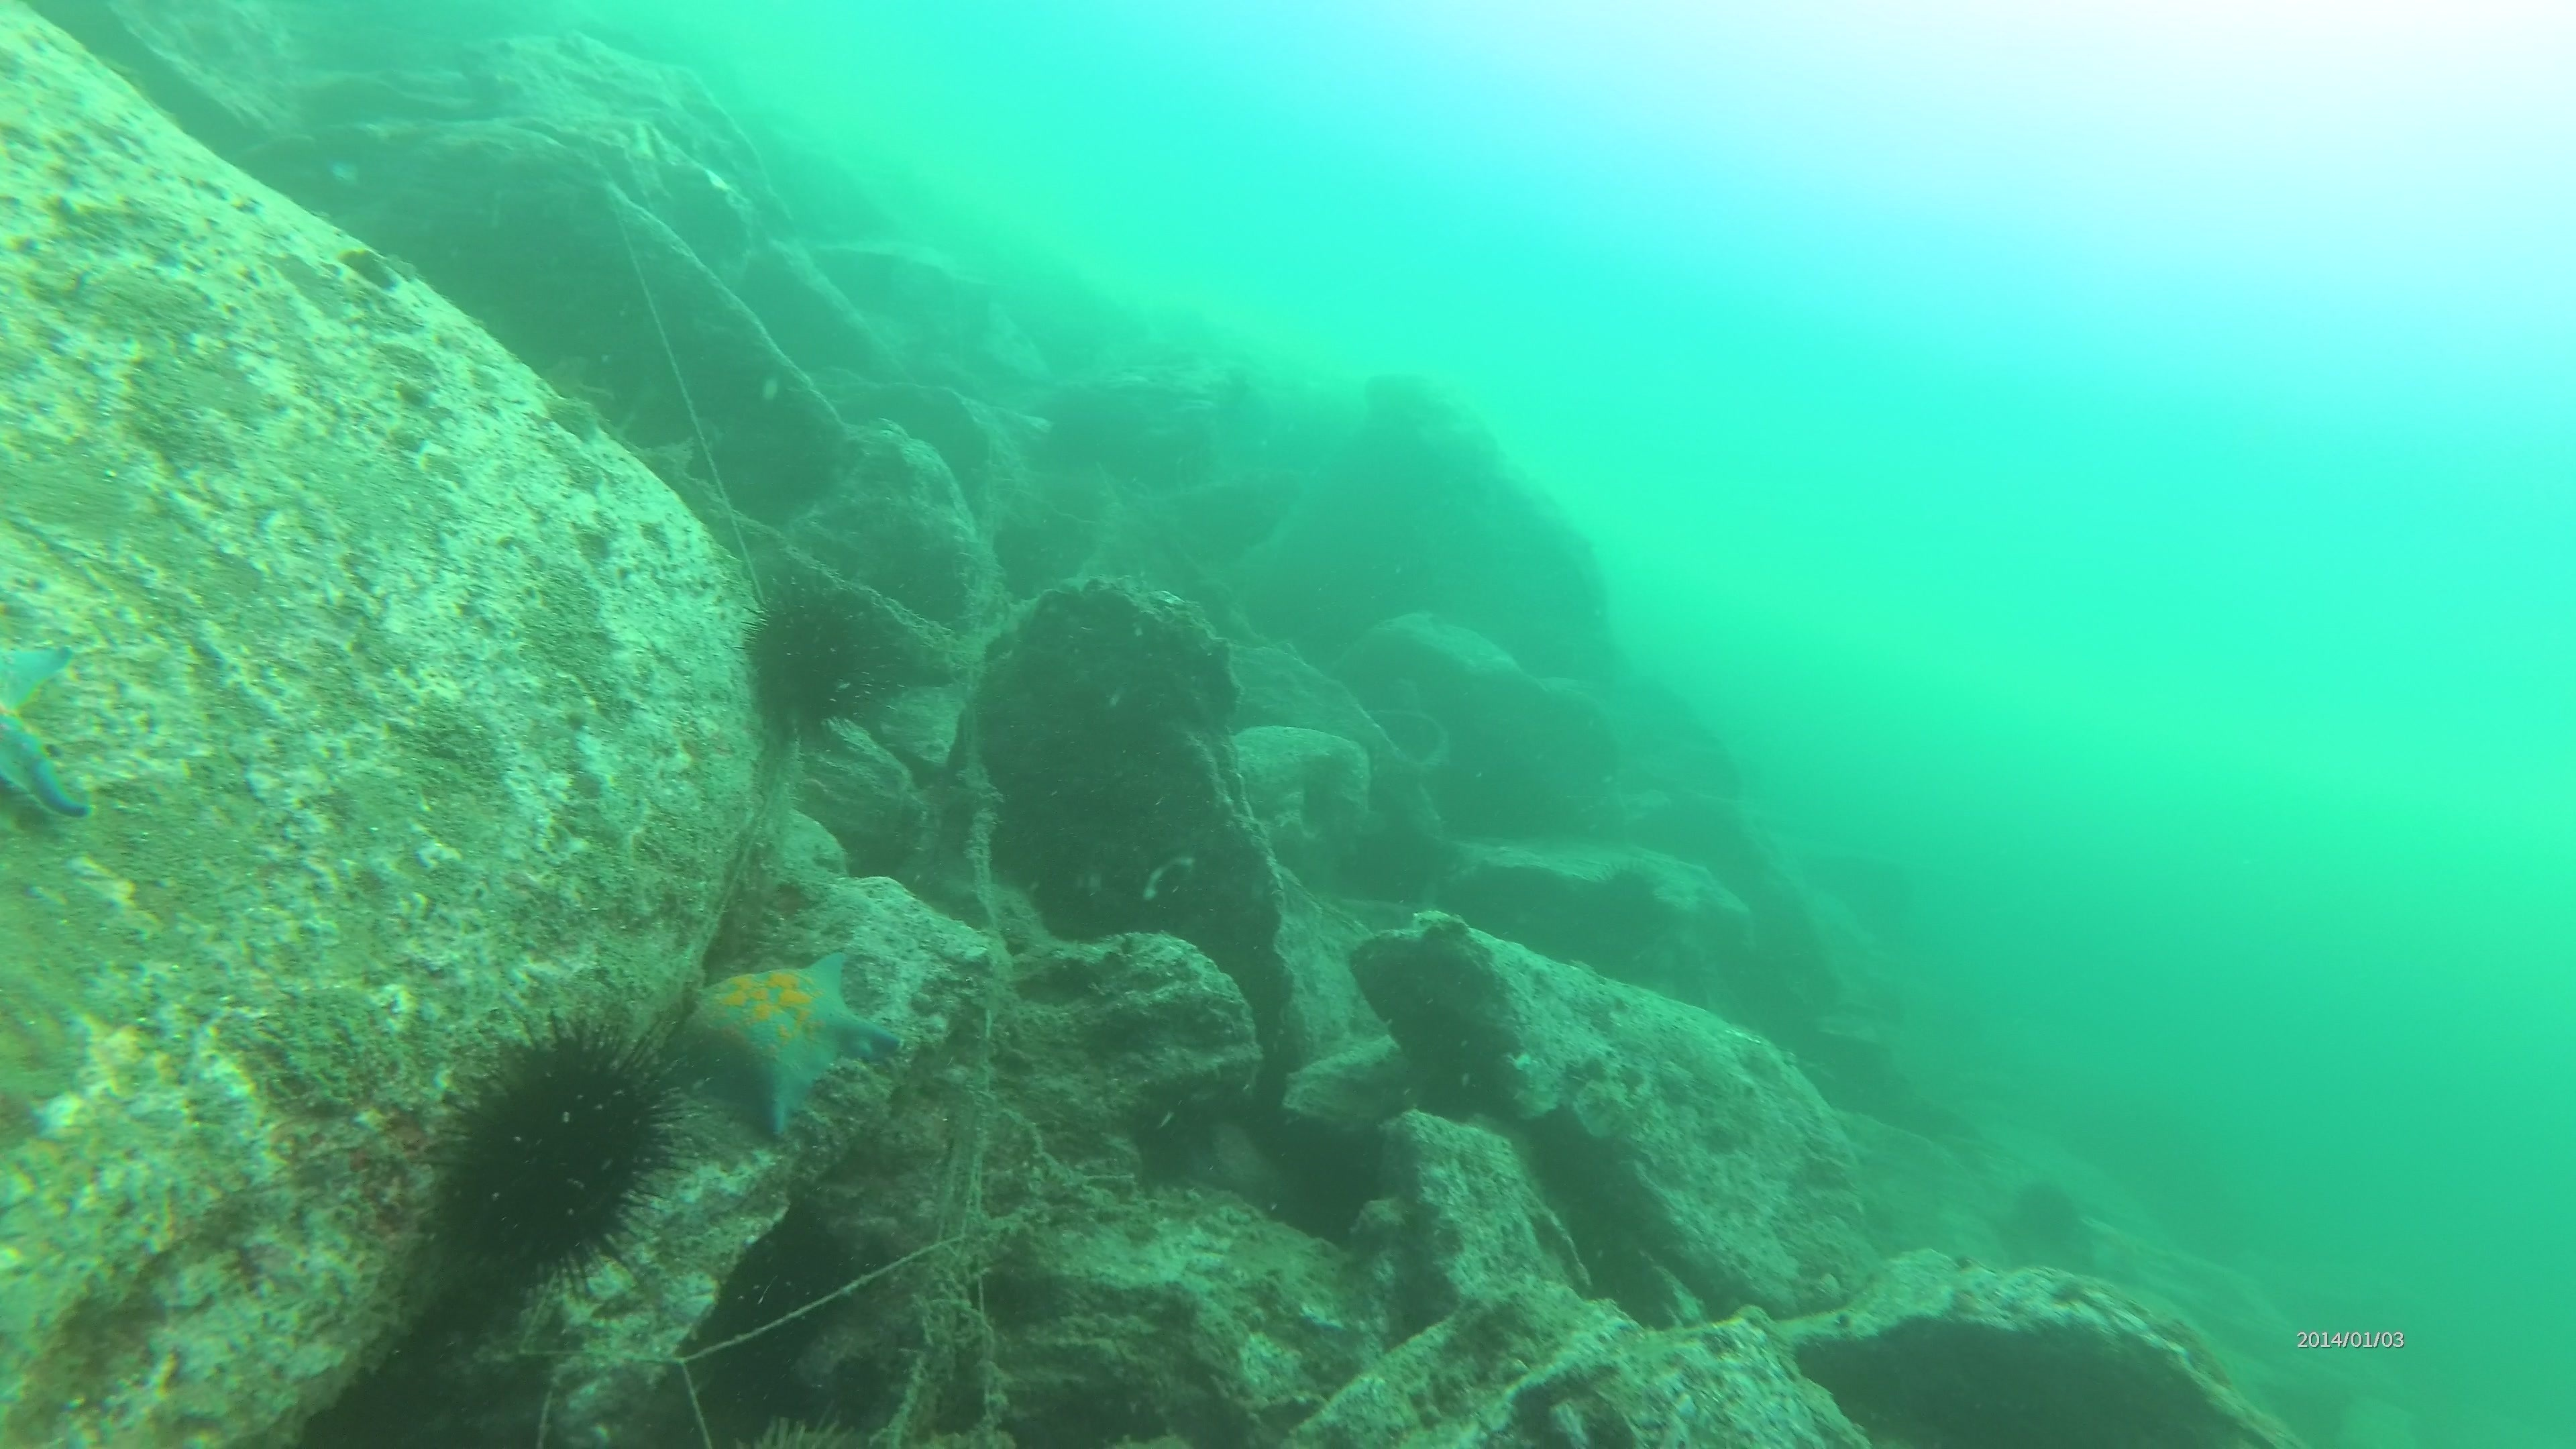echinus: (425, 1012, 690, 1288), (736, 579, 888, 745), (1989, 1173, 2100, 1277), (1592, 860, 1667, 922)
starfish: (676, 939, 901, 1141), (0, 625, 97, 839)
